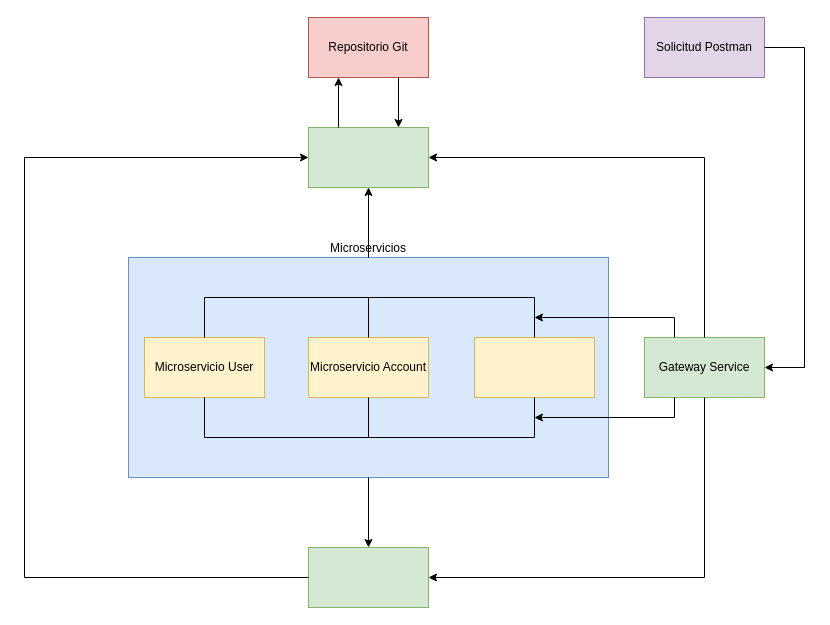
This 830x625 diagram has some shape labels left out. The centre of each missing label's shape, as x and y in pixels:
"Config Server" belongs at pixel 368 157.
"Eureka Server" belongs at pixel 368 577.
"Microservicio Assignment" belongs at pixel 534 367.
